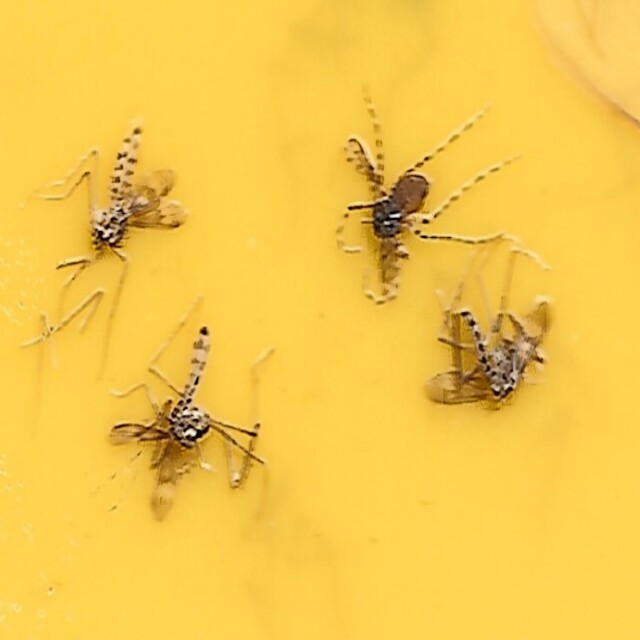Nematocera: (108, 328, 219, 520), (342, 124, 431, 297), (428, 299, 553, 416), (87, 120, 184, 262)
